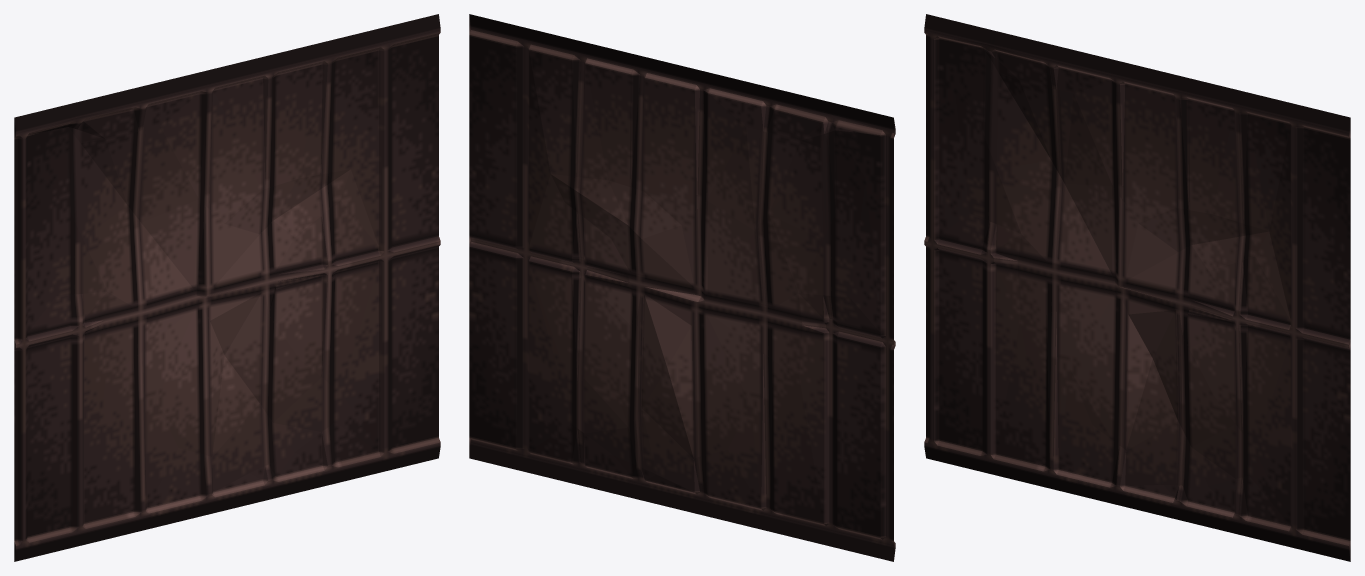
The model's file is eng2_1d.fbx.
3 views of the same model, side by side, from view 1: azimuth 30°, elevation 25°; view 2: azimuth 150°, elevation 25°; view 3: azimuth 330°, elevation 25° (orthographic).
Parts seen in each view (by area): view 1: eng2_1d_mesh; view 2: eng2_1d_mesh; view 3: eng2_1d_mesh.
Part boxes in pixels (x1=…): eng2_1d_mesh: x1=14, y1=14, x2=440, y2=561; eng2_1d_mesh: x1=469, y1=14, x2=895, y2=561; eng2_1d_mesh: x1=924, y1=14, x2=1350, y2=561.
Bounding box in the file's own units: 256 × 256 × 10.46.
